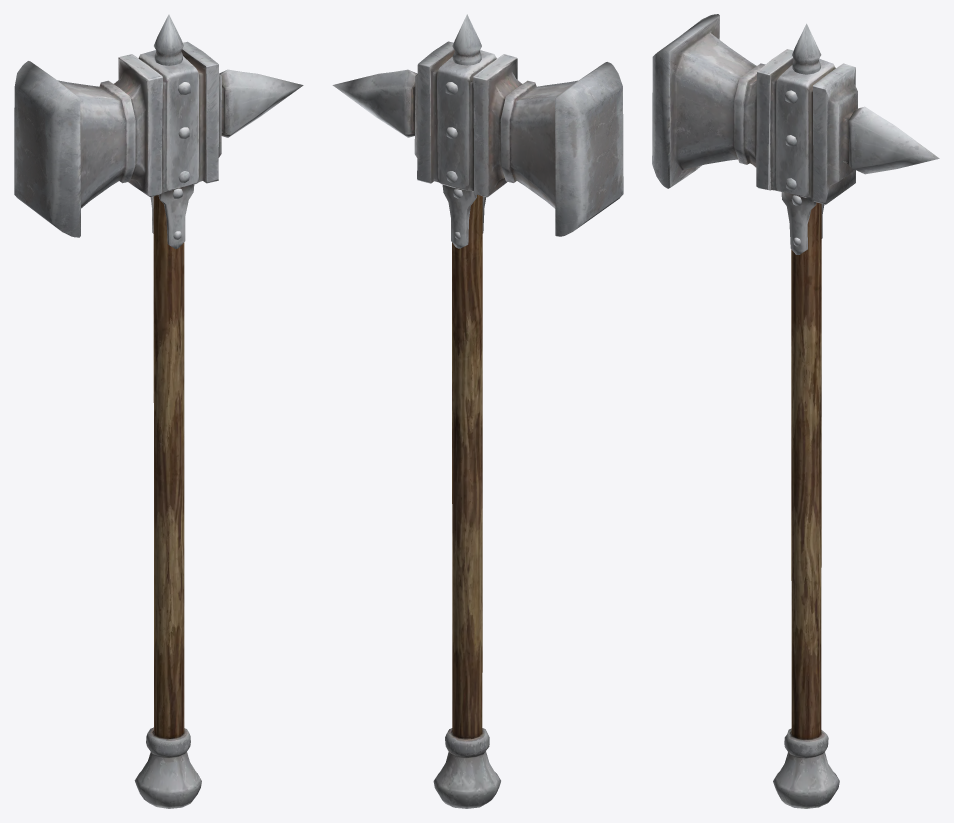
The picture shows the model from 3 angles, left to right: view 1: azimuth 30°, elevation 25°; view 2: azimuth 150°, elevation 25°; view 3: azimuth 330°, elevation 25°; orthographic projection.
Parts seen in each view (by area): view 1: SM_Warhammer_Iron_2H_01_LOD0; view 2: SM_Warhammer_Iron_2H_01_LOD0; view 3: SM_Warhammer_Iron_2H_01_LOD0.
Part boxes in pixels (bbox=[...]): SM_Warhammer_Iron_2H_01_LOD0: bbox=[14, 14, 303, 808]; SM_Warhammer_Iron_2H_01_LOD0: bbox=[332, 14, 623, 808]; SM_Warhammer_Iron_2H_01_LOD0: bbox=[652, 14, 939, 808].
Size of the model in its own units: 0.5259 by 1.45 by 0.1716.
1 material, 1 textured.
